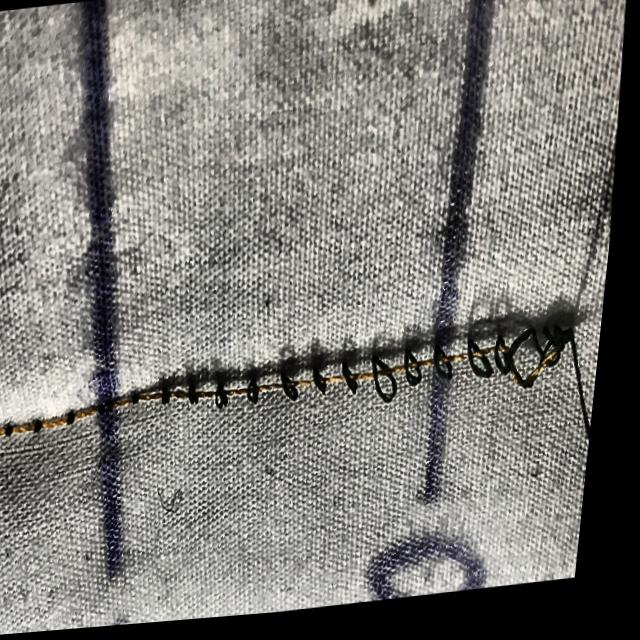Stitch: (167, 274, 614, 586)
